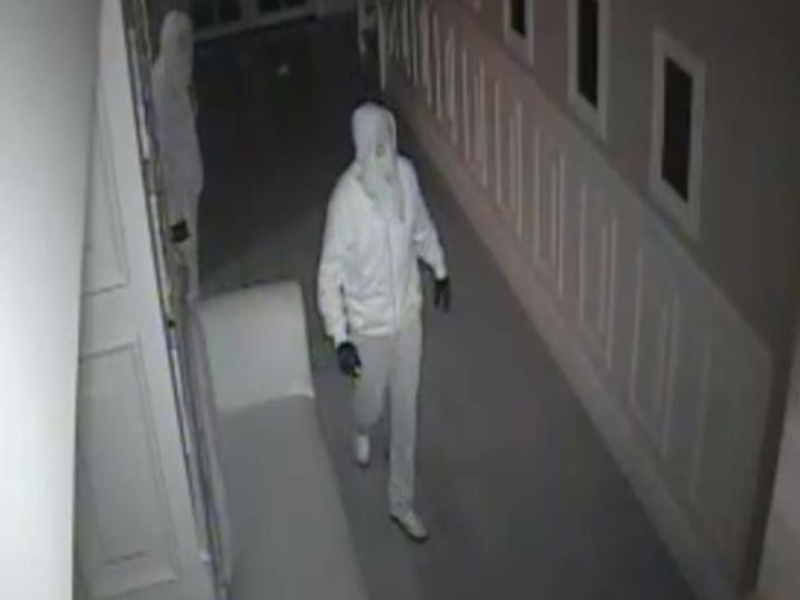person: (310, 102, 459, 547)
